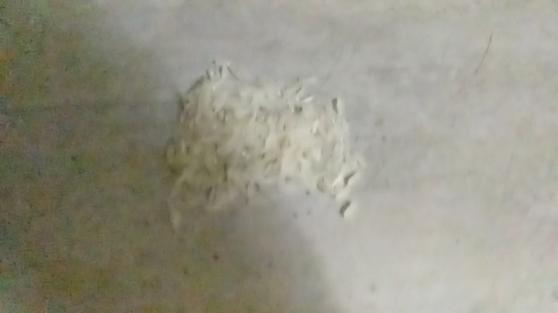rice: (152, 58, 372, 231)
